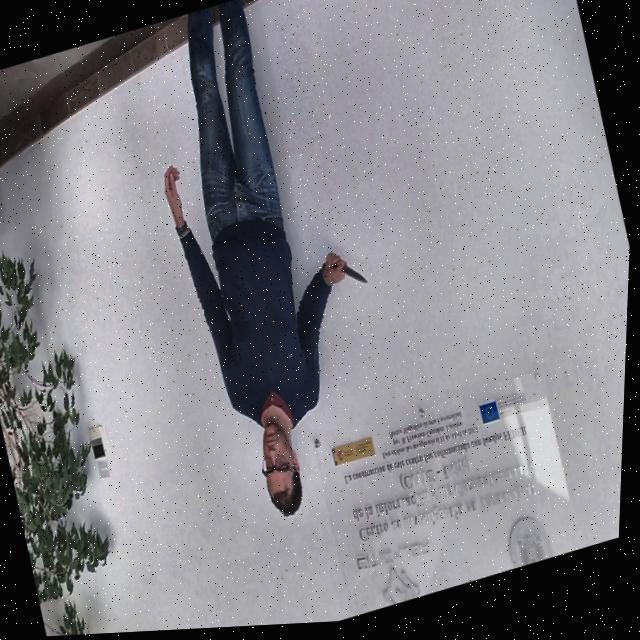knife: (343, 263, 370, 294)
